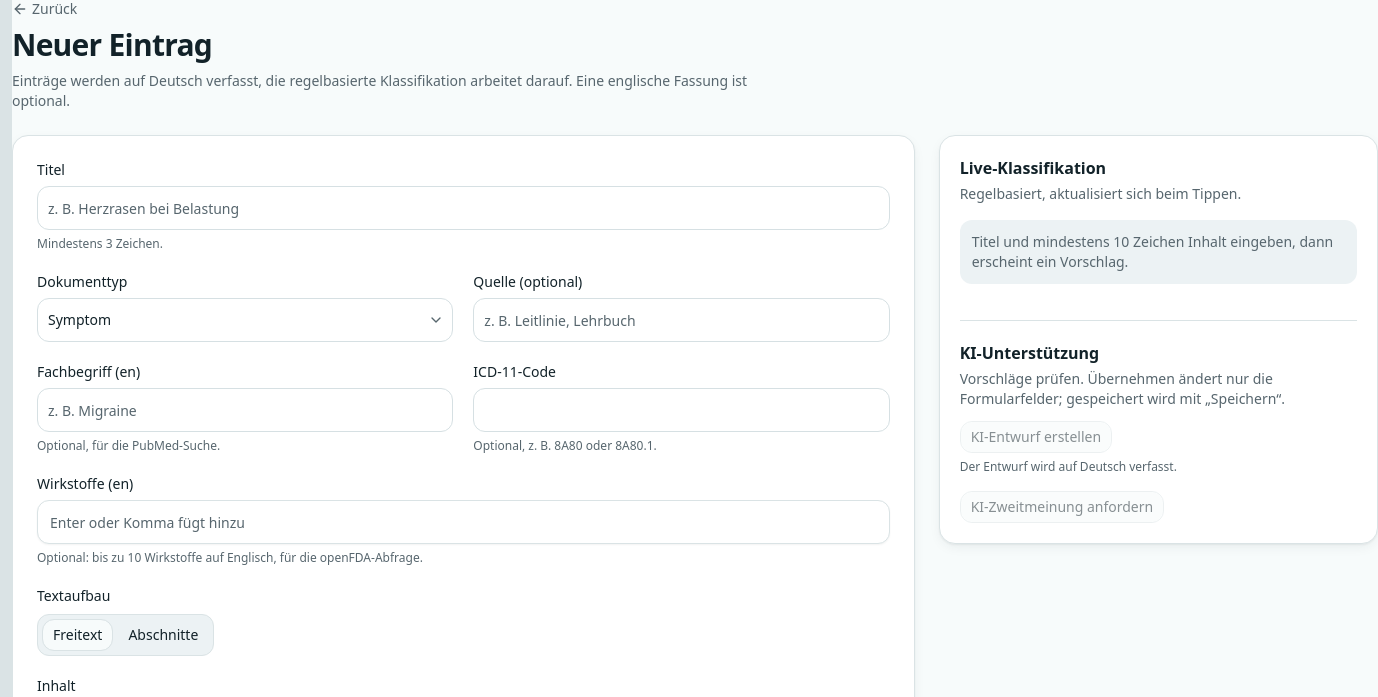
Test: classifies live while typing
The image size is (1378, 697).
Type "Herzrasen" into the field labelled "Titel" at (463, 208), box [37,186,890,230]
(page scrolled)
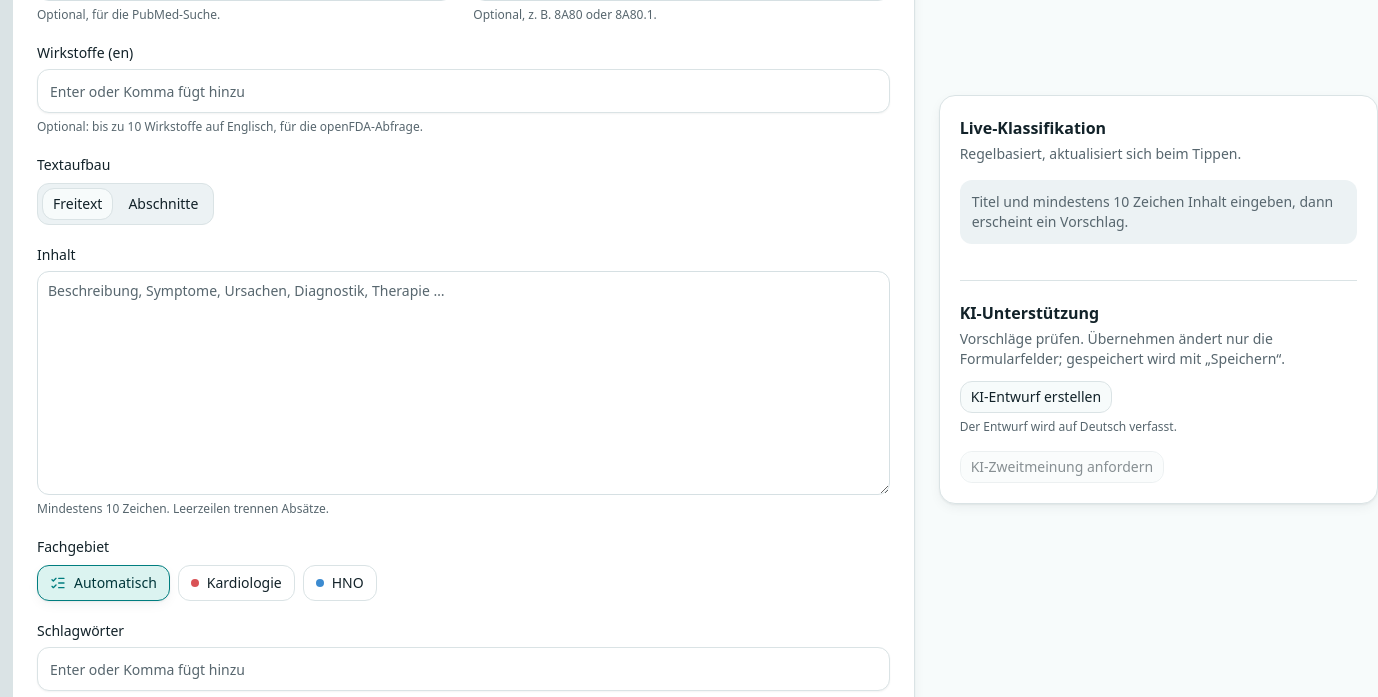
Type "Herzrasen und Brustschmerzen bei Belastung." into the text box labelled "Inhalt" at (463, 383), box [37,271,890,495]
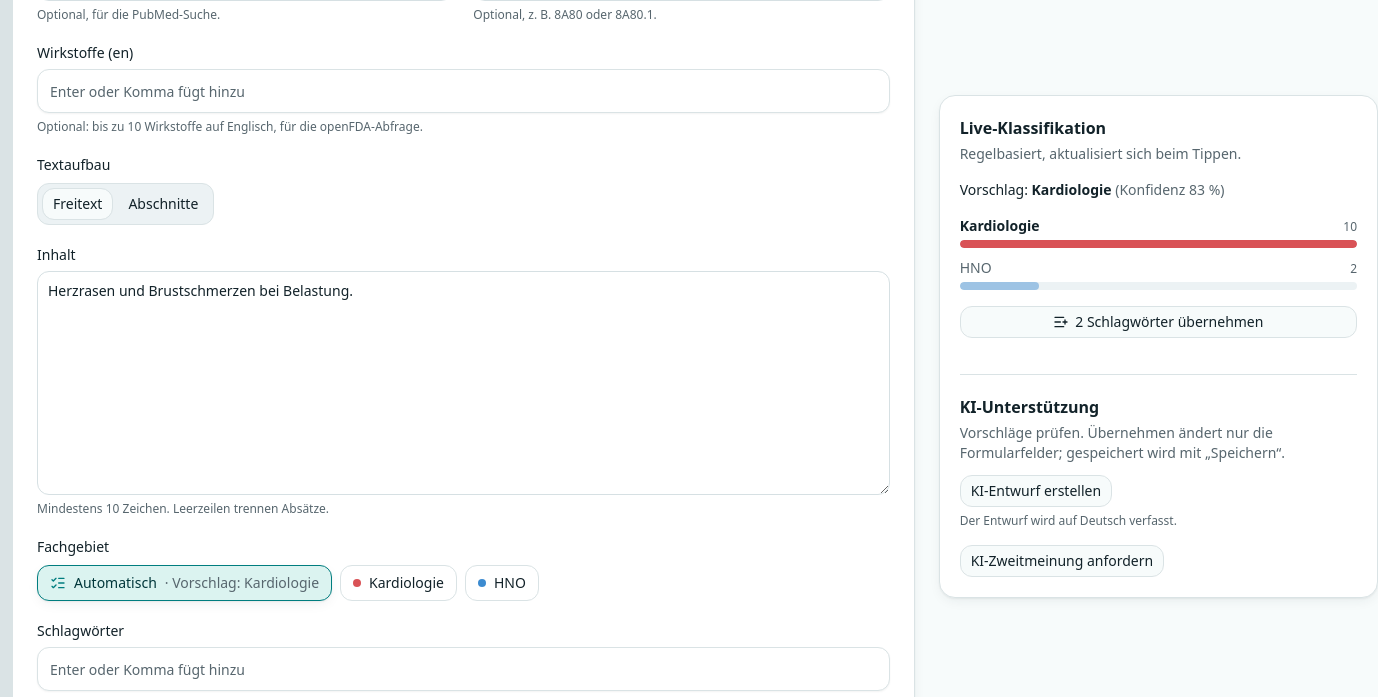
Expected: the text "· Vorschlag: Kardiologie" is shown, [165,573,319,593]
Expected: the radio button labelled "Automatisch · Vorschlag: Kardiologie" is shown, [37,565,332,601]
